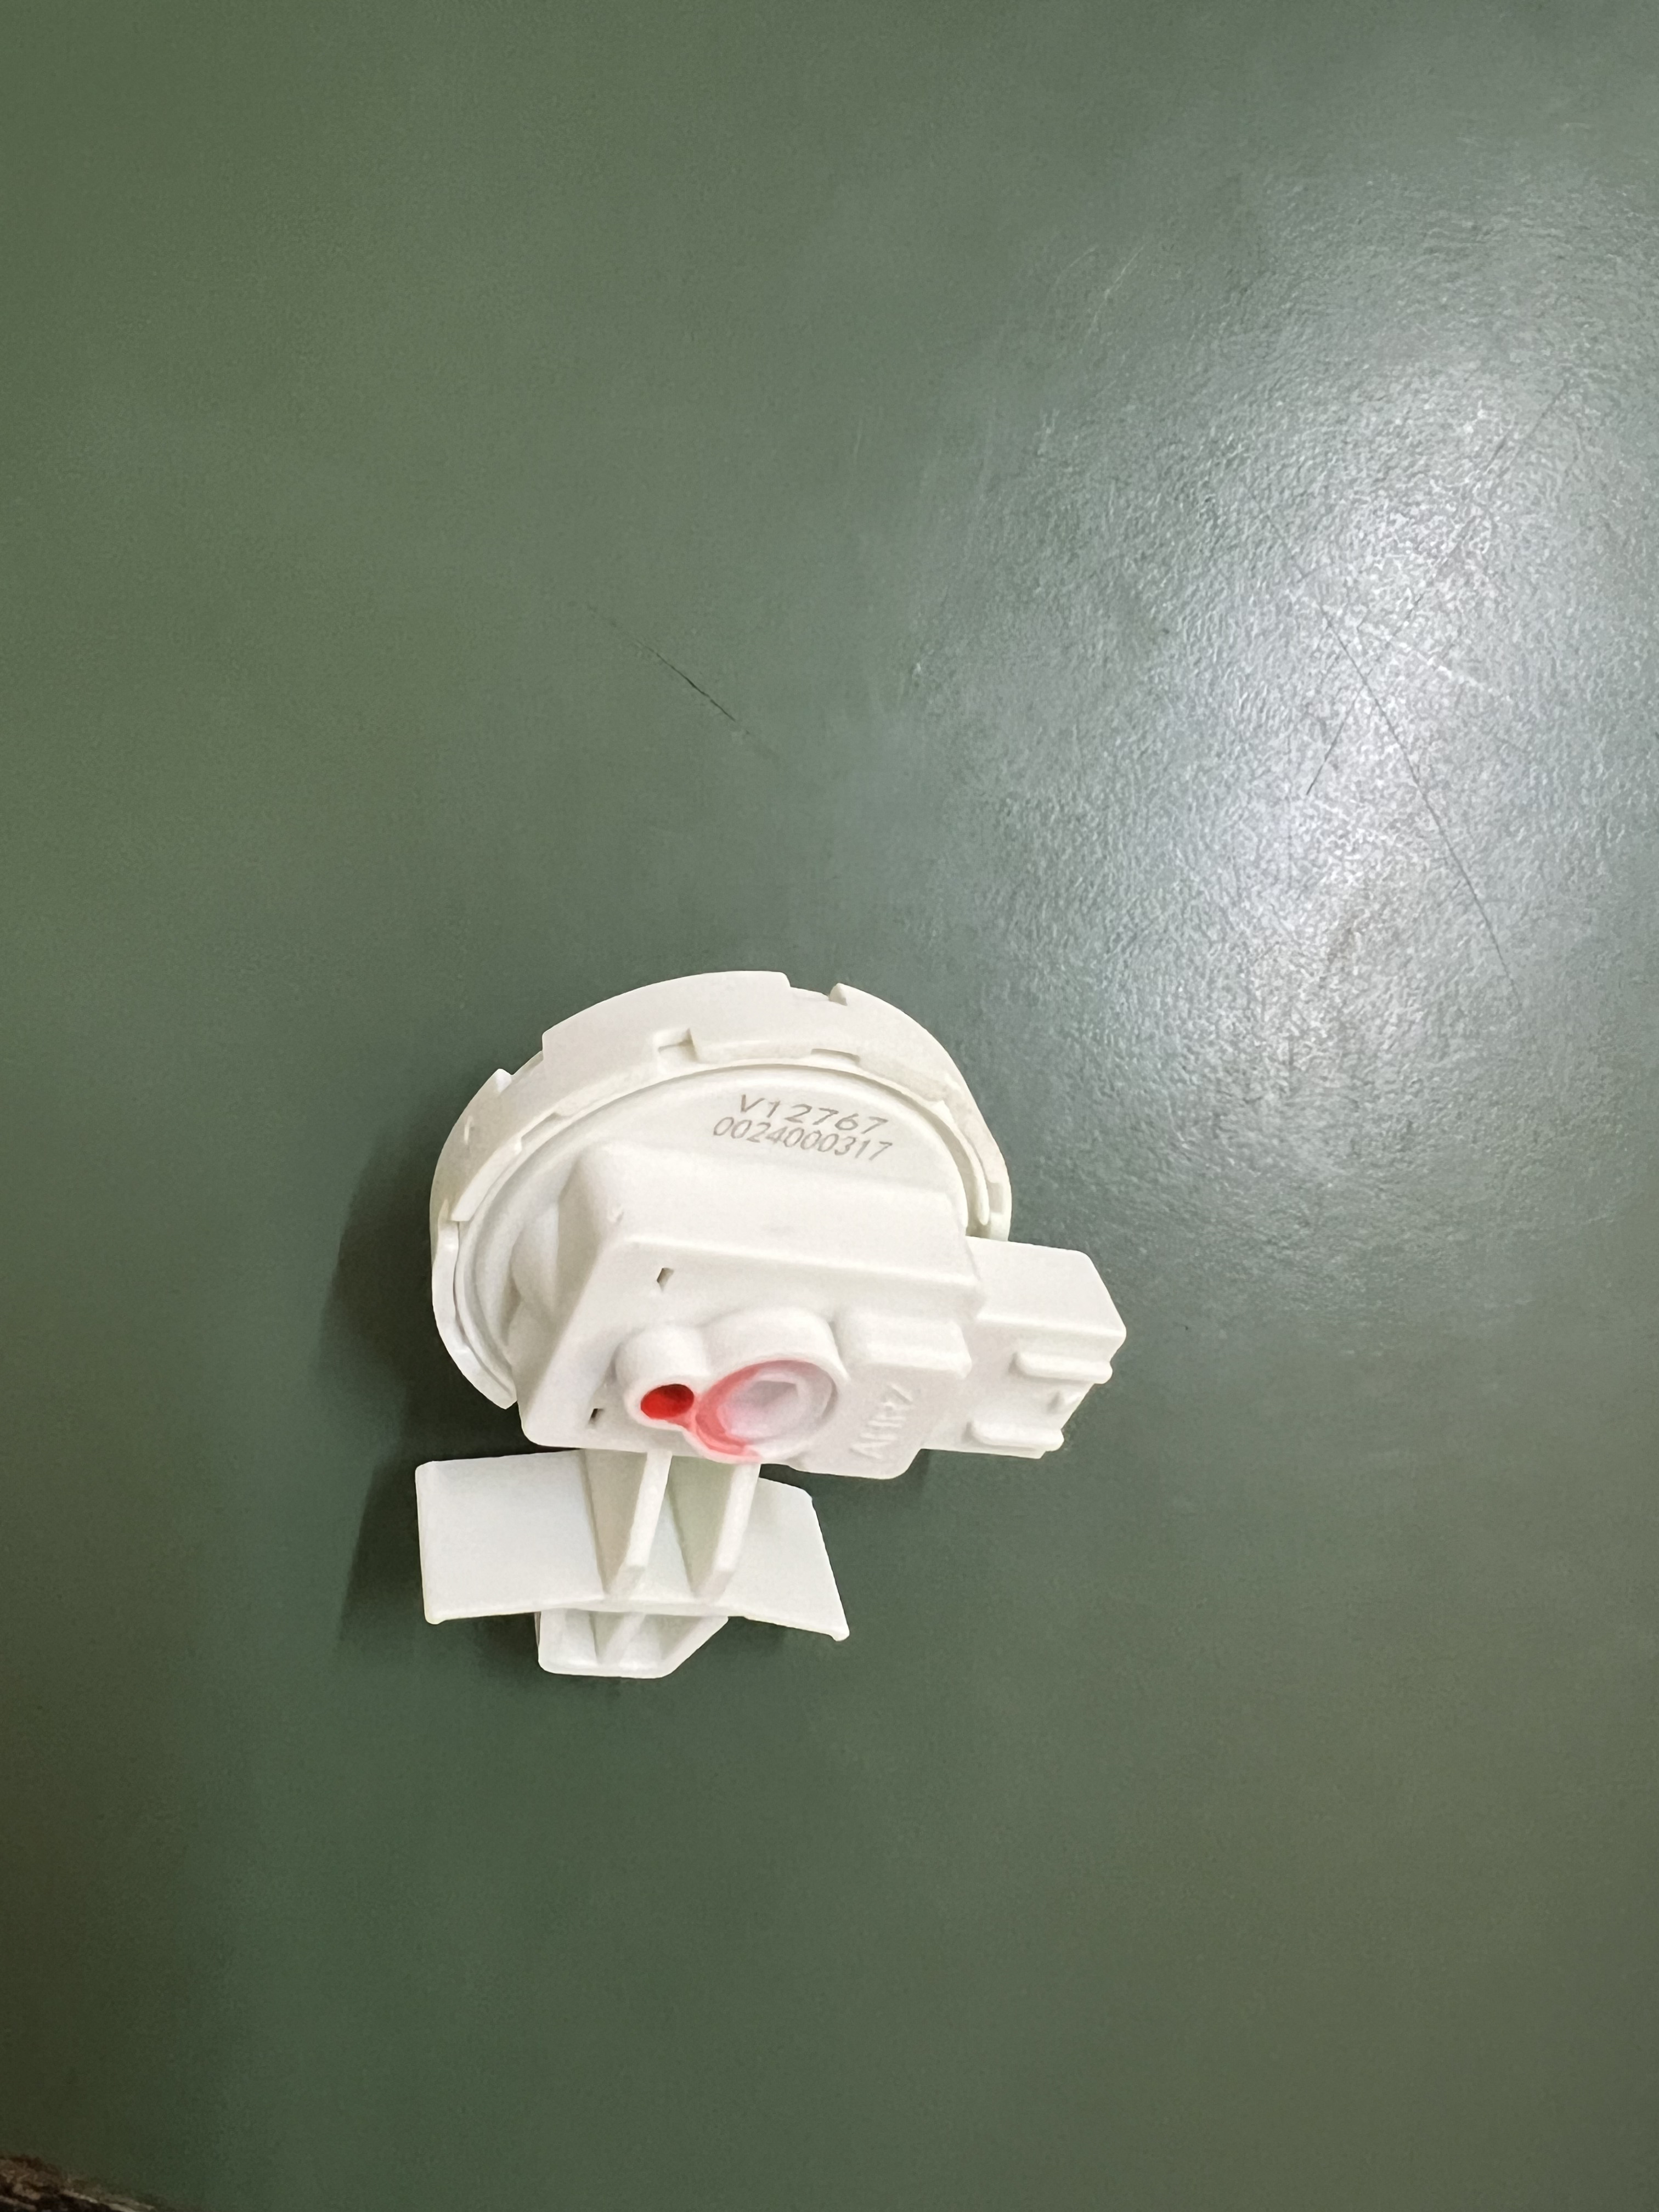pressure_switch_2: (279, 961, 1173, 1721)
